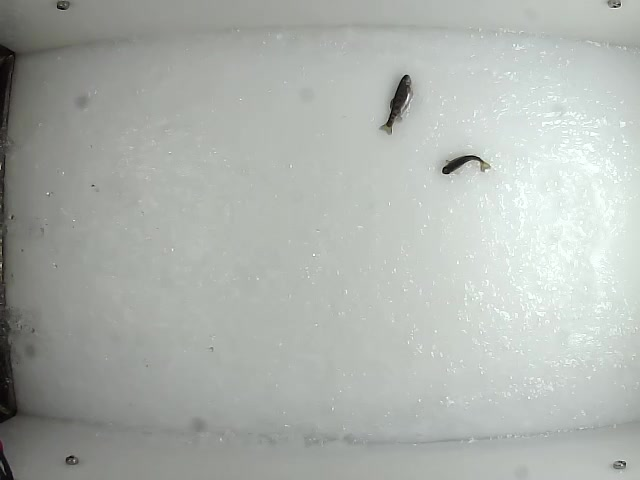fish: (377, 74, 414, 136), (439, 154, 492, 176)
